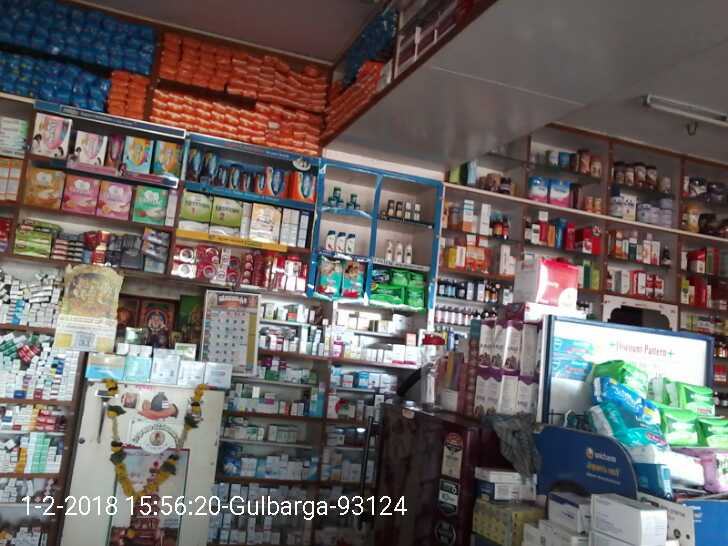beauty: (382, 239, 394, 261), (345, 230, 355, 256), (326, 229, 336, 250), (403, 240, 412, 262), (394, 240, 403, 261), (336, 230, 345, 251), (396, 199, 403, 220), (388, 198, 395, 218), (413, 202, 420, 221), (405, 200, 411, 220)
pharmacy: (590, 357, 649, 396), (663, 408, 703, 448), (672, 382, 714, 412), (369, 280, 407, 306), (342, 259, 365, 298), (318, 257, 341, 296), (405, 286, 425, 308), (390, 268, 409, 286), (409, 269, 426, 286), (349, 192, 358, 205), (332, 185, 340, 199)
